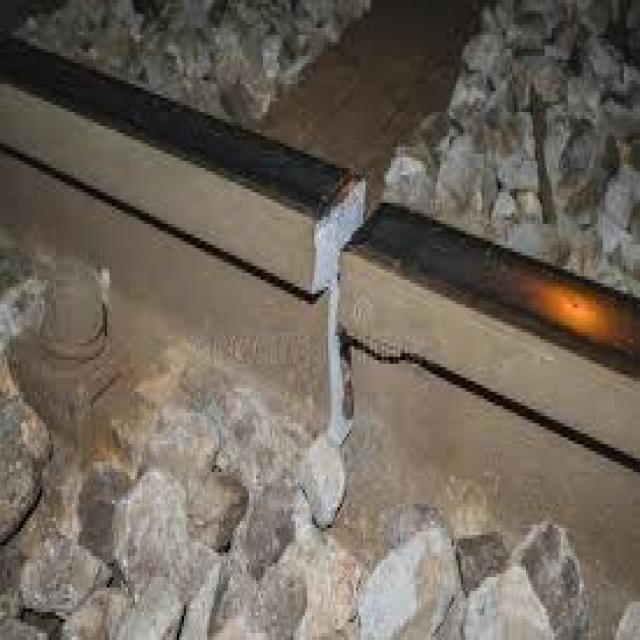defective: (282, 130, 511, 592)
